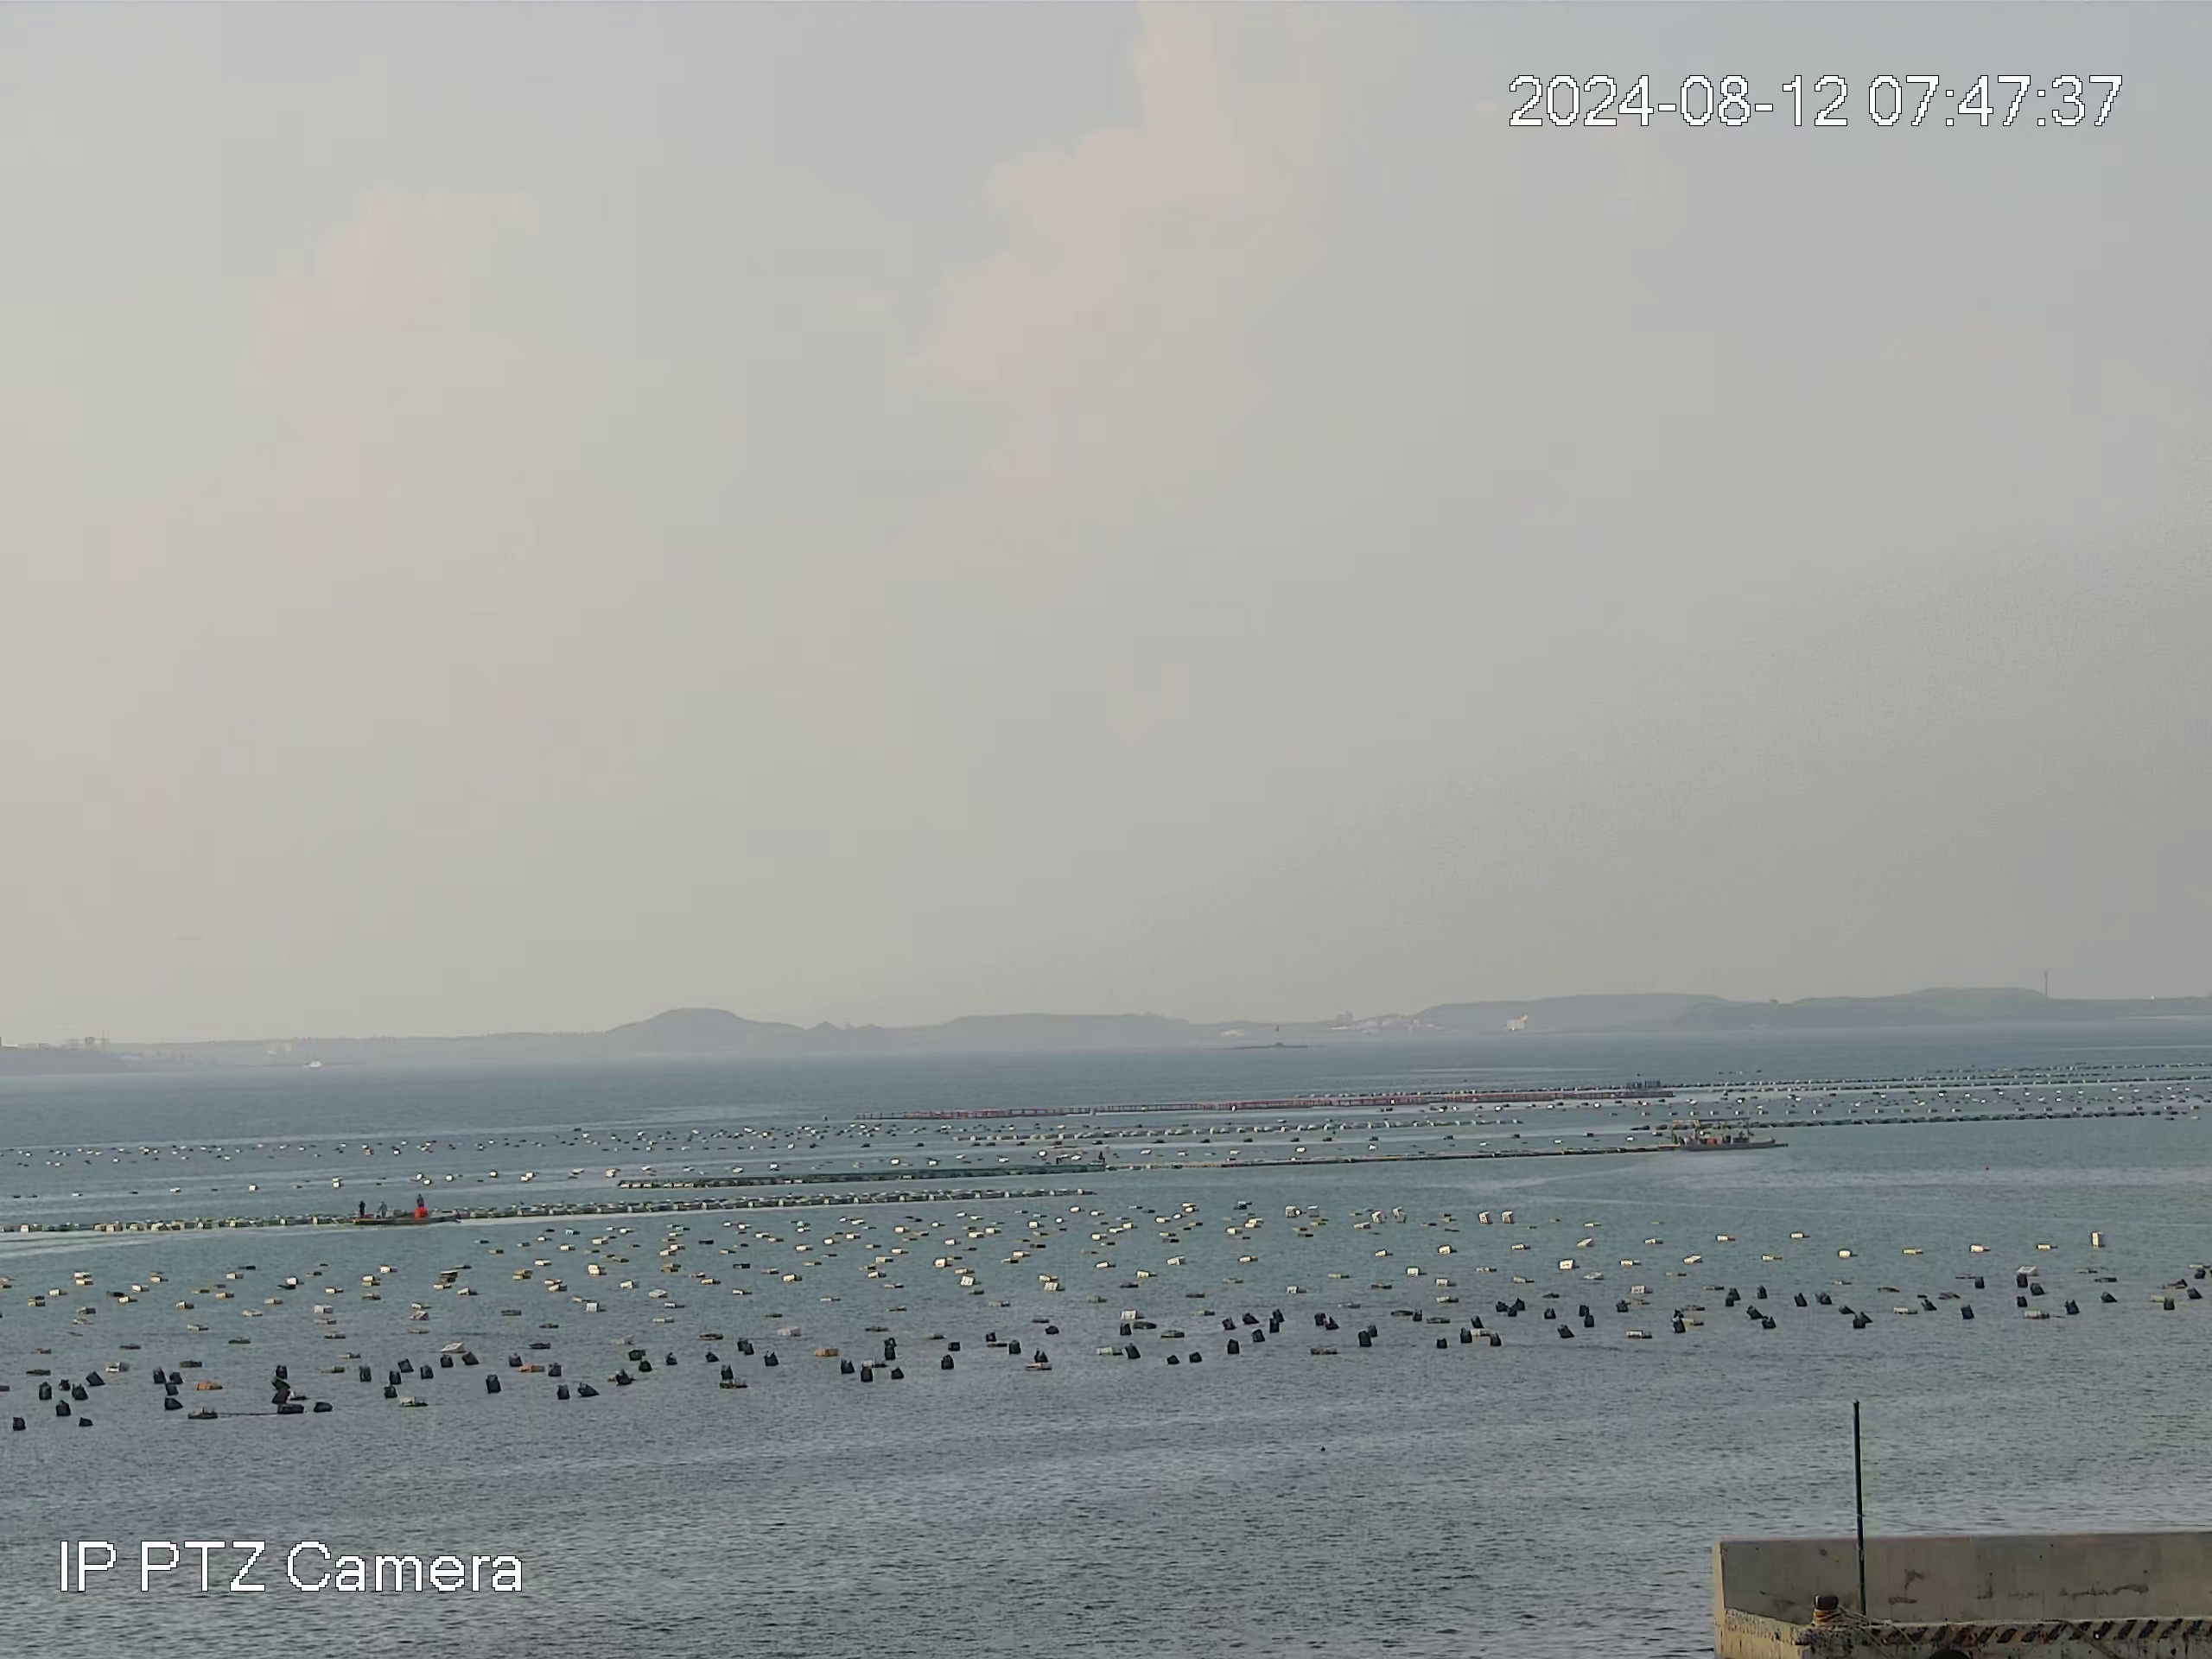boat: (352, 1192, 458, 1227), (1667, 1115, 1756, 1150)
